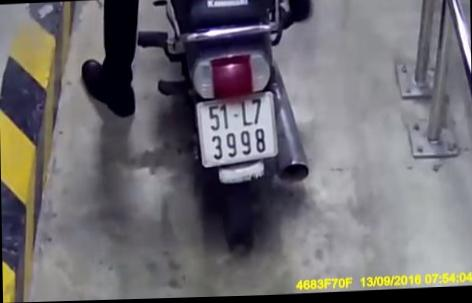LP: (196, 93, 279, 168)
